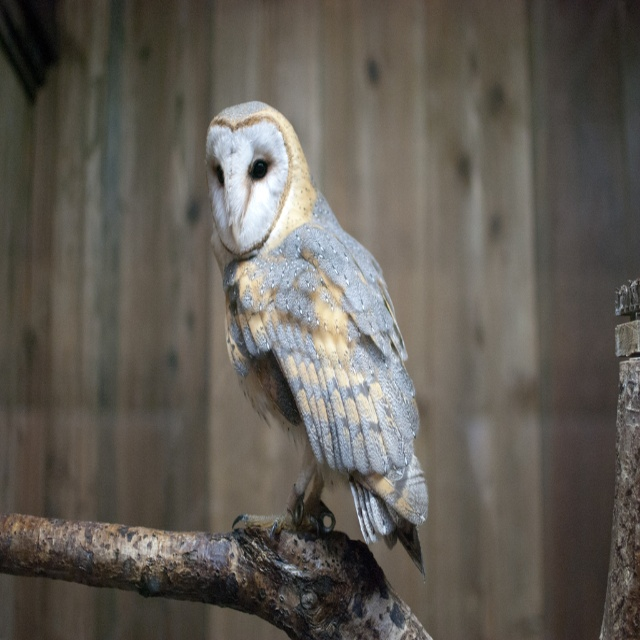Owl: (202, 85, 425, 563)
